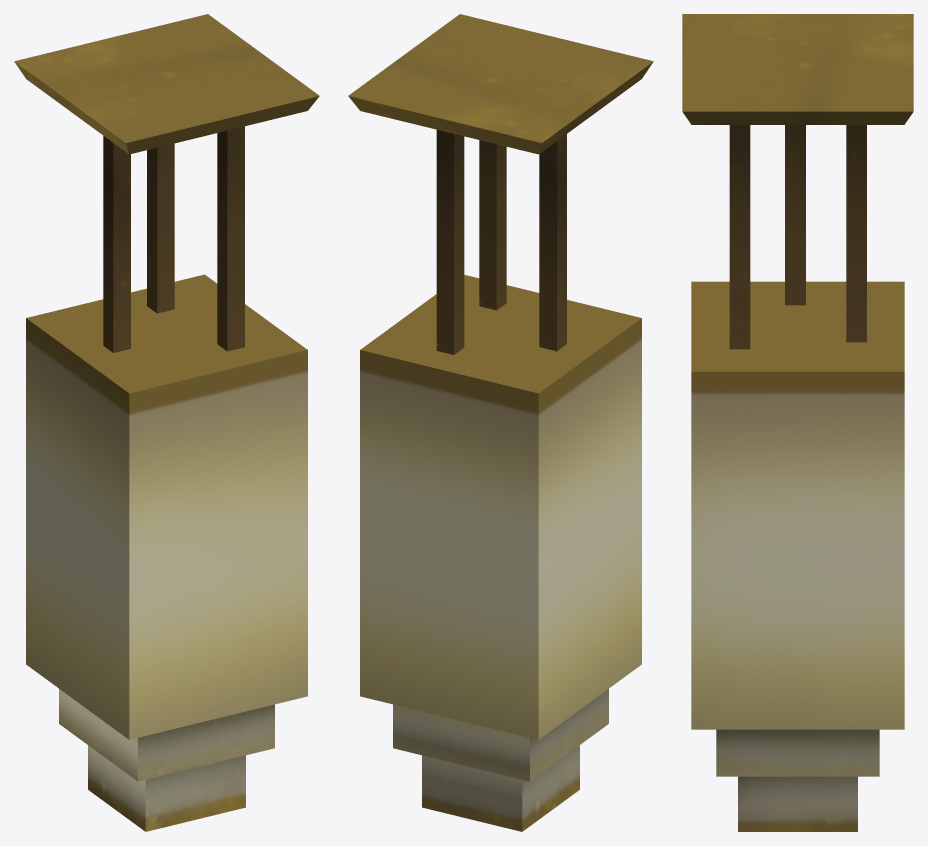
File: lamp.fbx
3 renders of one model, left to right at view 1: azimuth 30°, elevation 25°; view 2: azimuth 150°, elevation 25°; view 3: azimuth 270°, elevation 25°, orthographic. The views are drawn at different scales.
Visible parts, largest first — view 1: lamp; view 2: lamp; view 3: lamp.
Part boxes in pixels (x1,y1,x2,y2): lamp: (14,14,319,831); lamp: (348,14,653,831); lamp: (682,14,913,831).
Bounding box in the file's own units: 0.3095 × 1.1 × 0.3095.
